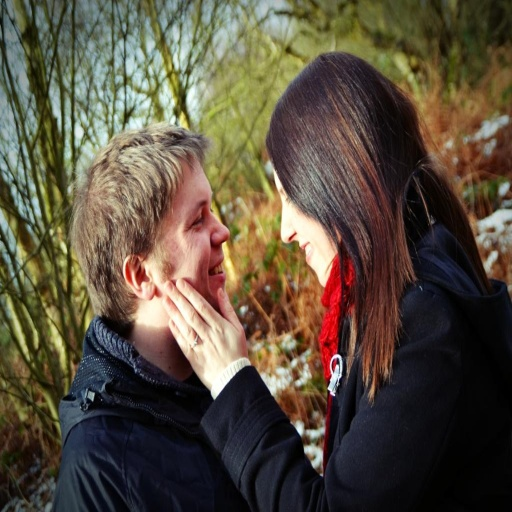hand: (150, 277, 253, 395)
